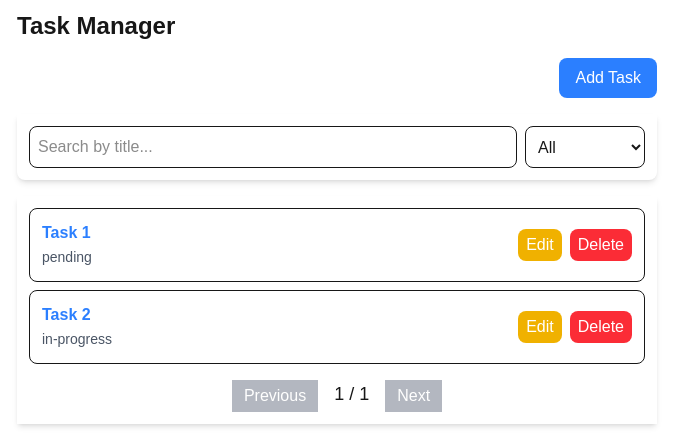
Scenario: TaskList Component › filters tasks by search input
Type "Task 1" into the field with placeholder "Search by title...".
click(273, 147); type("Task 1")  # box [29,126,517,168]
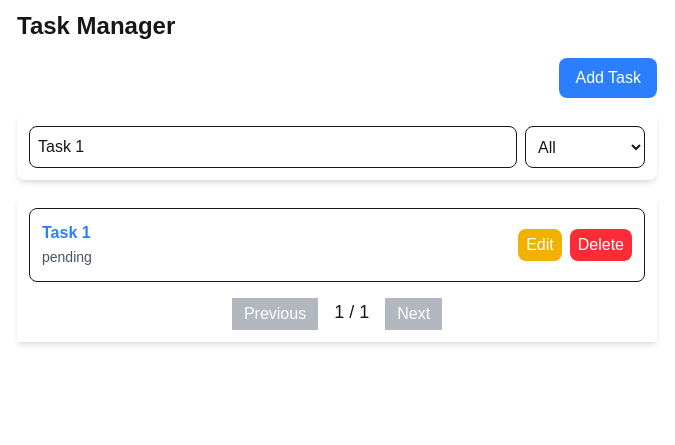
Expected: the heading "Task 1" is shown, [42,221,92,245]
Now the link "Task 2" is gone
